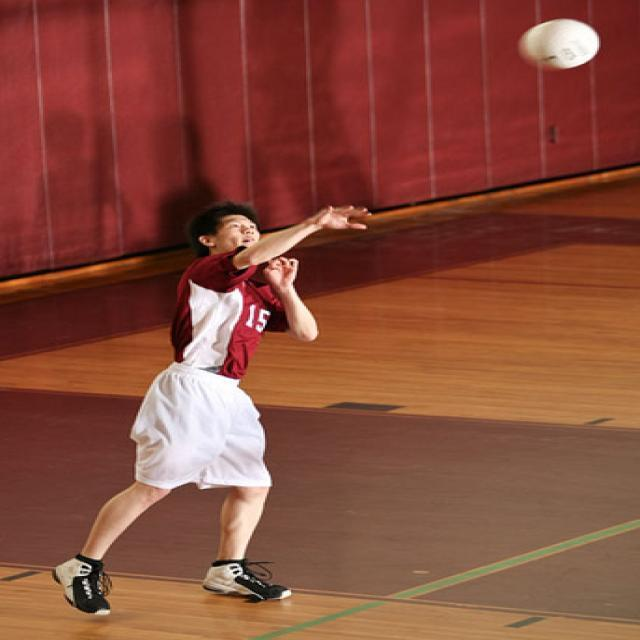volleyball: (524, 20, 598, 68)
